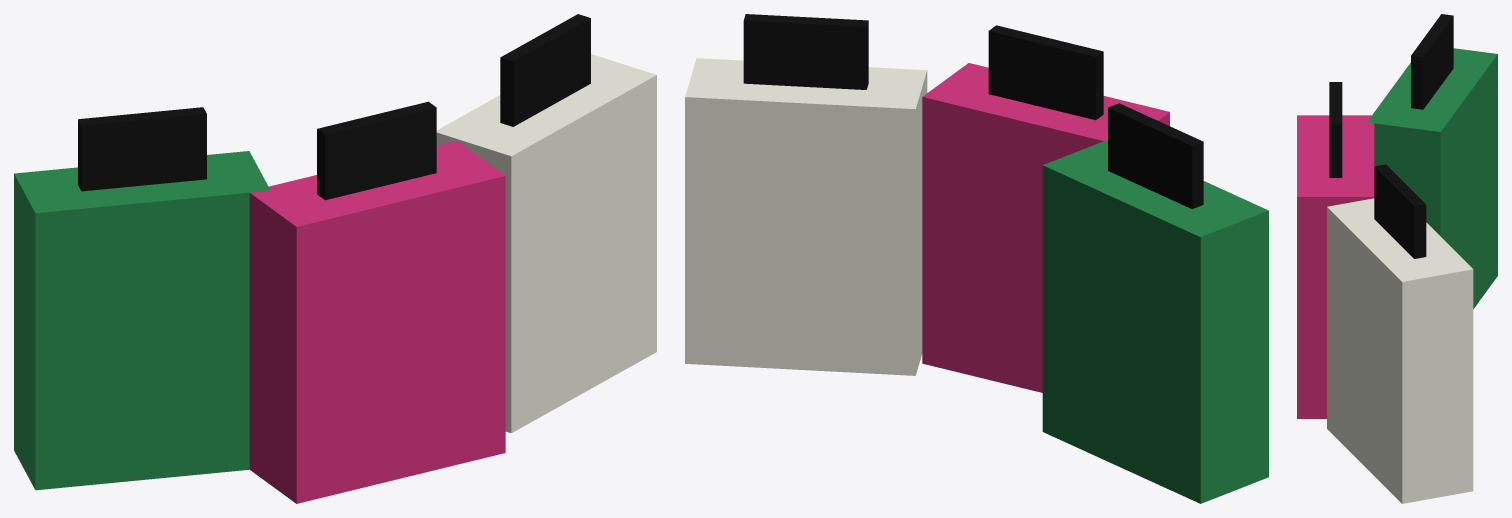
Rendered from shopping_bags.glb.
The picture shows the model from 3 angles, left to right: view 1: azimuth 30°, elevation 25°; view 2: azimuth 150°, elevation 25°; view 3: azimuth 270°, elevation 25°; orthographic projection. The views are drawn at different scales.
Visible parts, largest first — view 1: shopping_bags; view 2: shopping_bags; view 3: shopping_bags.
Part boxes in pixels (x1,y1,x2,y2): shopping_bags: (14,14,656,503); shopping_bags: (685,14,1268,503); shopping_bags: (1297,14,1497,503).
Bounding box in the file's own units: 0.8726 × 0.47 × 0.3116.
1 material, 1 textured.
